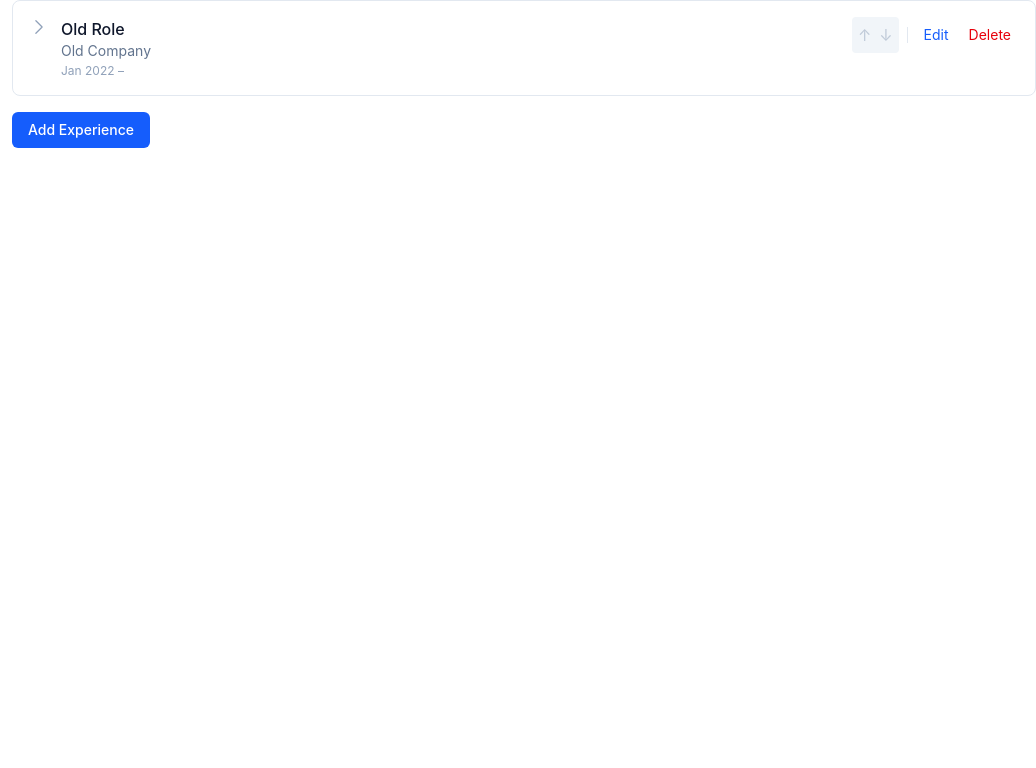
Test: ExperienceSection › edits an existing experience
Click the button "Edit" at (936, 35), box [916, 21, 957, 49]
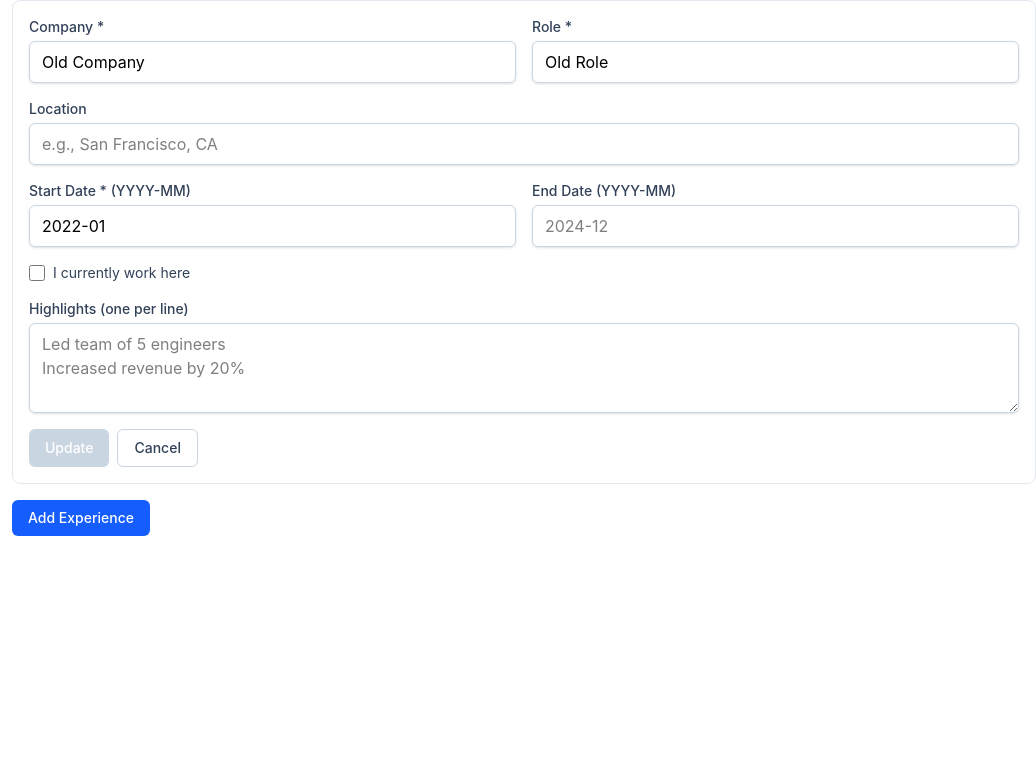
Replace the text in the field labelled "Company *" with "Updated Company" at (272, 62), box [29, 41, 516, 83]
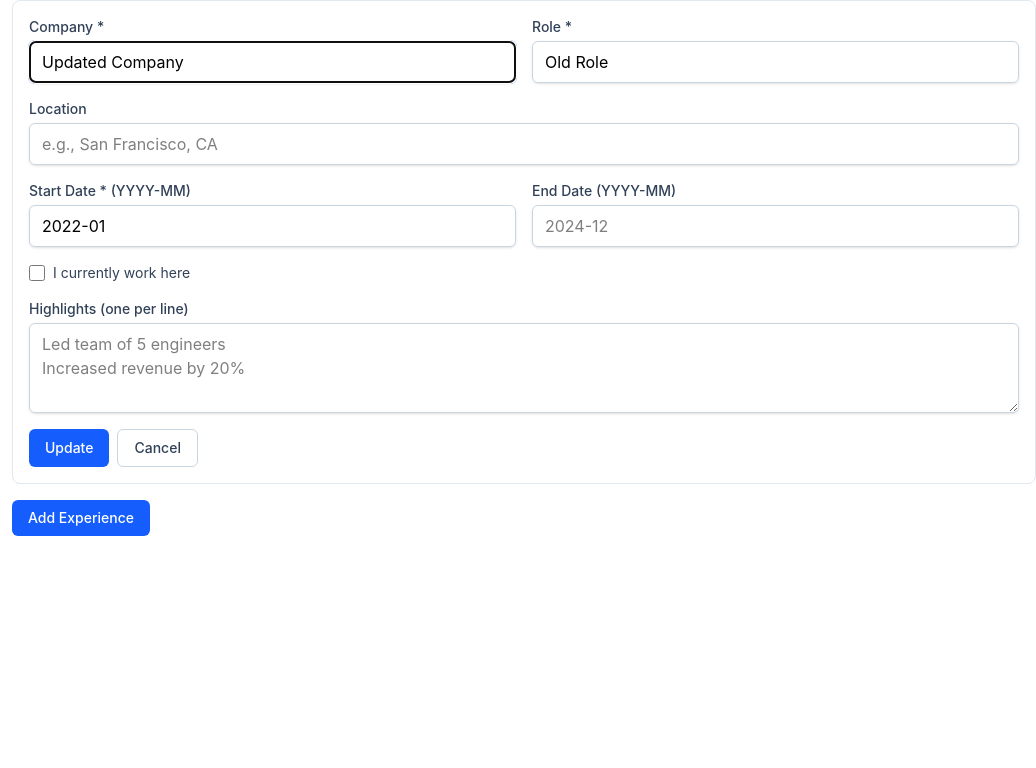
Click the button "Update" at (69, 448), box [29, 429, 110, 467]
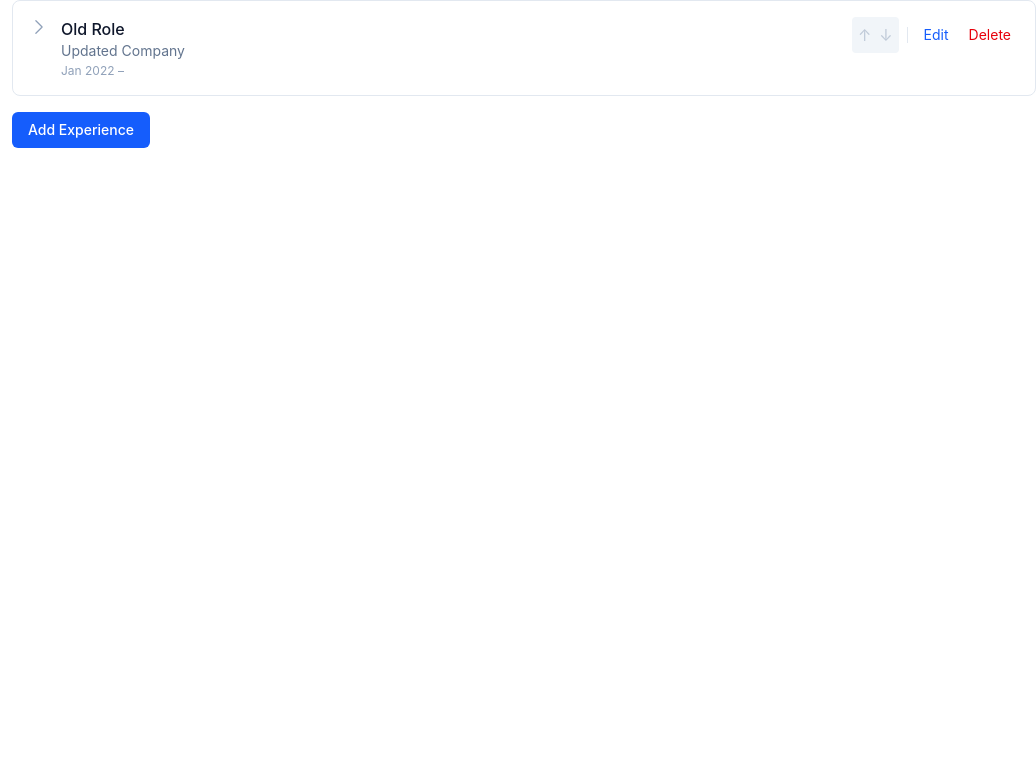
Result: the text "Updated Company" is shown at [61, 41, 185, 61]
Result: the text "Old Company" is gone
